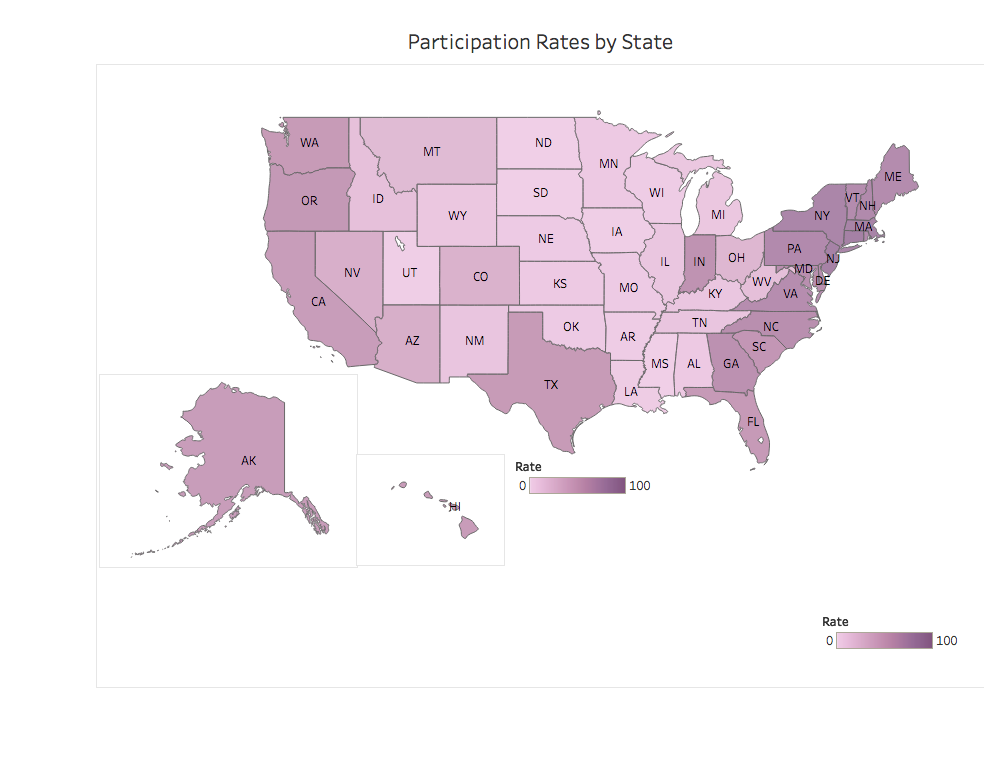

What the dashboard file says about the page in this screenshot:
{"tool":"tableau","page":{"name":"Dashboard 1","canvas":[1000,800],"ordinal":0},"visuals":[{"type":"worksheet","title":"Sheet 4","mark":"Automatic","box":[104,29,889,667]},{"type":"worksheet","title":"Sheet 3","mark":"Automatic","box":[107,382,259,194]},{"type":"worksheet","title":"Sheet 2","mark":"Automatic","box":[364,462,149,112]},{"type":"legend","title":"Sheet 2","param":"[federated.0wc6woz1llvodz1g9o2uu19z8b8c].[sum:Verbal:qk]","box":[620,495,140,57]},{"type":"legend","title":"Sheet 4","param":"[federated.0wc6woz1llvodz1g9o2uu19z8b8c].[sum:Verbal:qk]","box":[830,617,140,57]}]}

Visuals, with their boxes in screenshot pixels (x1, y1, x2, y2), scaled from the page's 1000x800 canvas onto the 984x784 screenshot:
"Sheet 4" worksheet: bbox=[102, 28, 977, 682]
"Sheet 3" worksheet: bbox=[105, 374, 360, 564]
"Sheet 2" worksheet: bbox=[358, 453, 505, 563]
"Sheet 2" legend: bbox=[610, 485, 748, 541]
"Sheet 4" legend: bbox=[817, 605, 954, 661]
